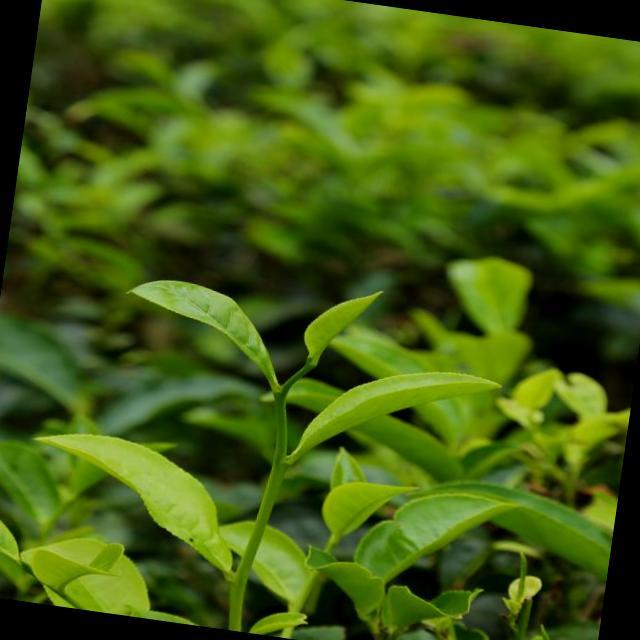Stem: (275, 401, 287, 440)
